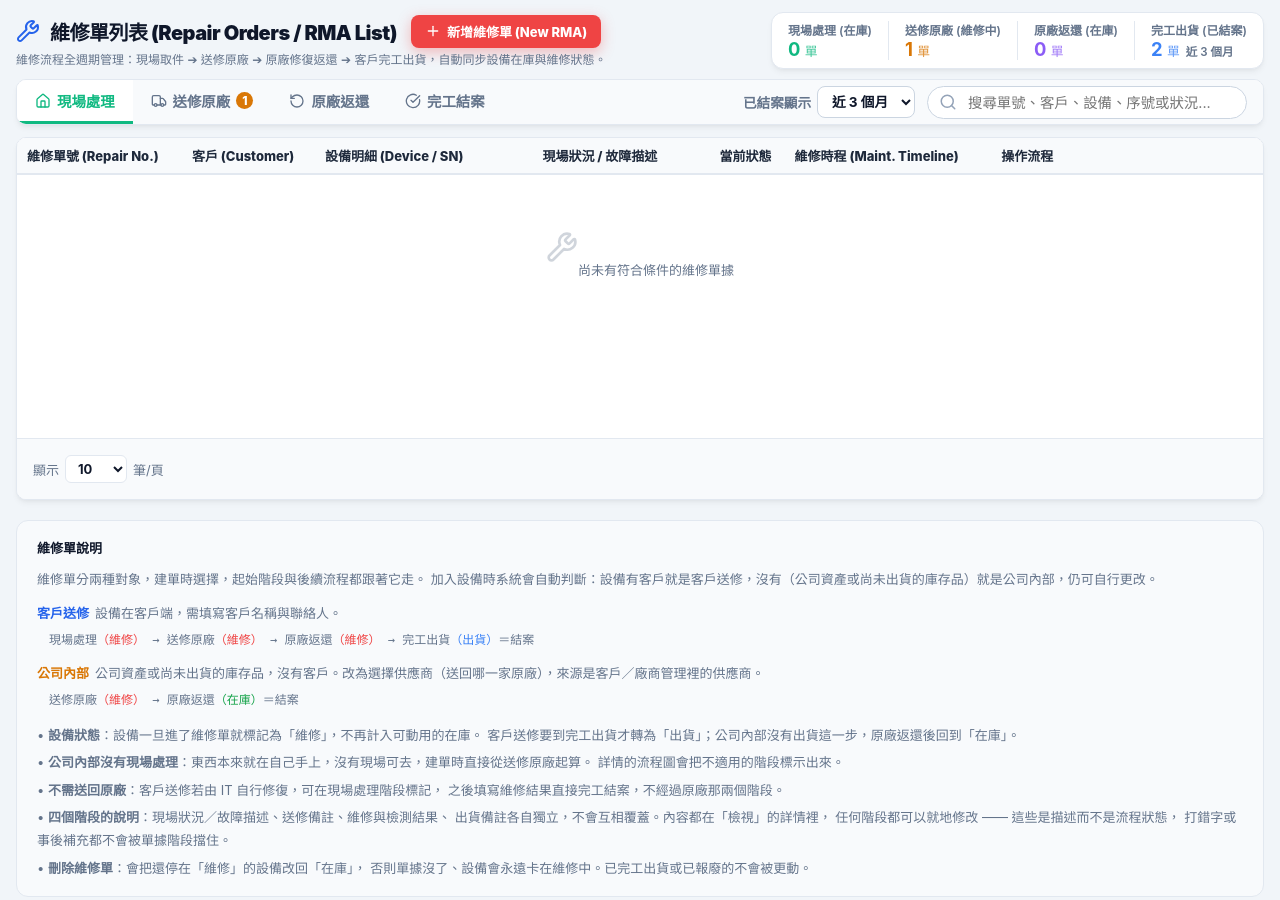
維修單列表 › 未結案的不管多舊都列出
Expected: the text with test id "stat-1" reads "1", top-left (905, 38), bottom-right (913, 60)
What coordinates should you click on to do the following:
click the button "送修原廠 1"
I would click on:
 (202, 102)
Its box is top-left (133, 80), bottom-right (272, 124).
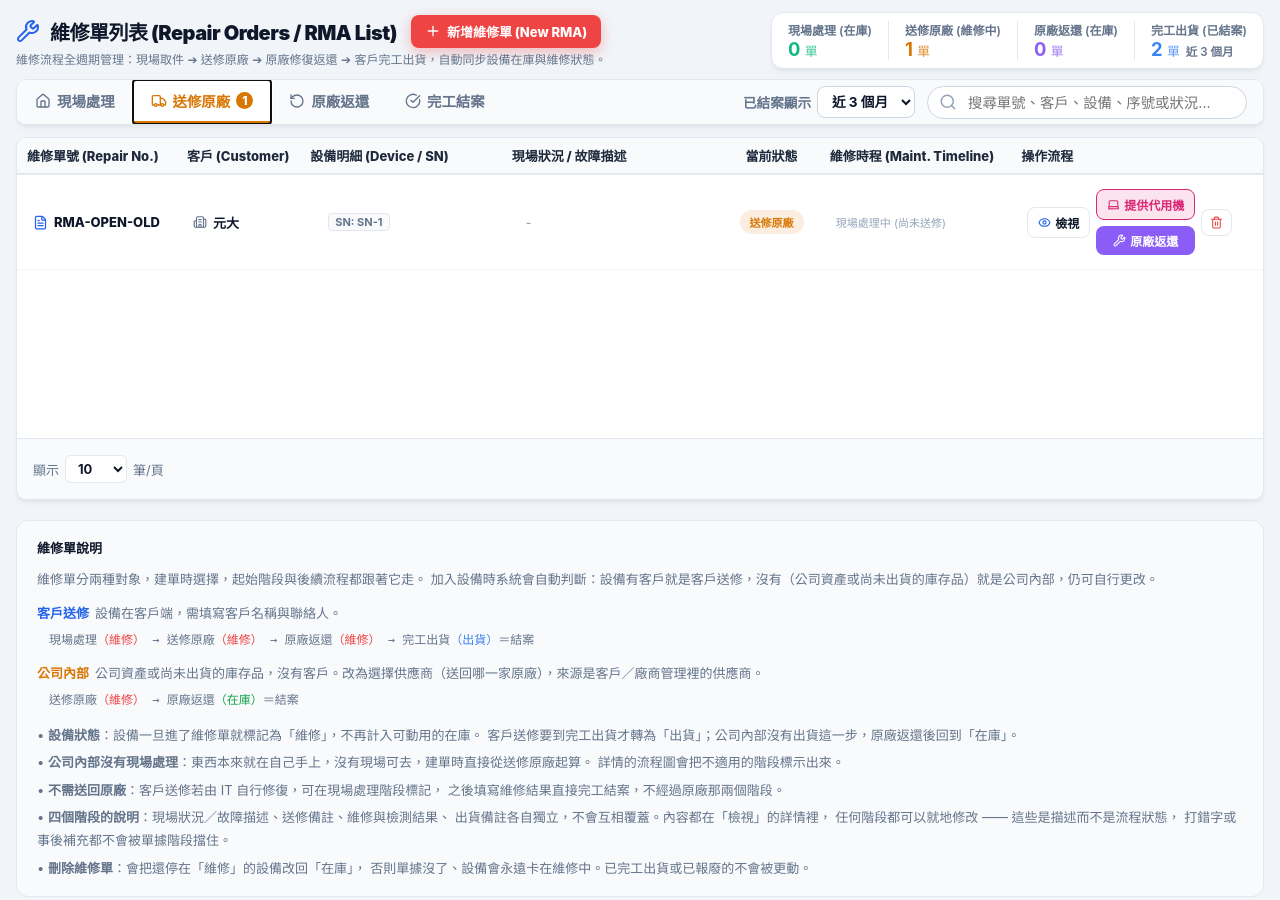
Expected: the text "RMA-OPEN-OLD" is shown, top-left (54, 214), bottom-right (160, 230)
